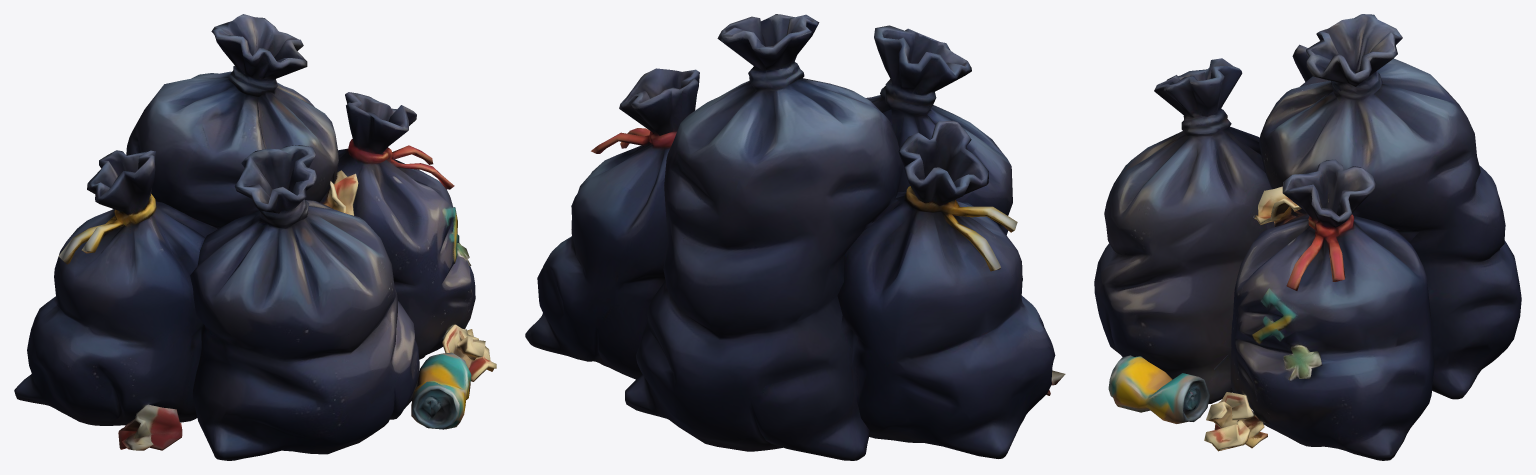
The model's file is trash_bags.glb.
3 renders of one model, left to right at view 1: azimuth 30°, elevation 25°; view 2: azimuth 150°, elevation 25°; view 3: azimuth 270°, elevation 25°, orthographic. The views are drawn at different scales.
Visible parts, largest first — view 1: tripo_part_1, tripo_part_3, tripo_part_2, tripo_part_0, tripo_part_4; view 2: tripo_part_2, tripo_part_3, tripo_part_0, tripo_part_1; view 3: tripo_part_0, tripo_part_2, tripo_part_1, tripo_part_4.
Boxes of the visible parts, <box> form: tripo_part_1: <box>190,145,471,460</box>; tripo_part_3: <box>14,150,217,450</box>; tripo_part_2: <box>126,14,346,228</box>; tripo_part_0: <box>337,92,496,381</box>; tripo_part_4: <box>320,170,358,215</box>; tripo_part_2: <box>625,14,903,460</box>; tripo_part_3: <box>837,120,1065,458</box>; tripo_part_0: <box>525,68,699,379</box>; tripo_part_1: <box>866,25,1022,280</box>; tripo_part_0: <box>1204,159,1434,460</box>; tripo_part_2: <box>1229,14,1521,399</box>; tripo_part_1: <box>1094,58,1271,423</box>; tripo_part_4: <box>1254,186,1301,226</box>.
Bounding box in the file's own units: 0.9799 × 0.7326 × 0.8371.
Materials: 1 (1 with a texture image).
